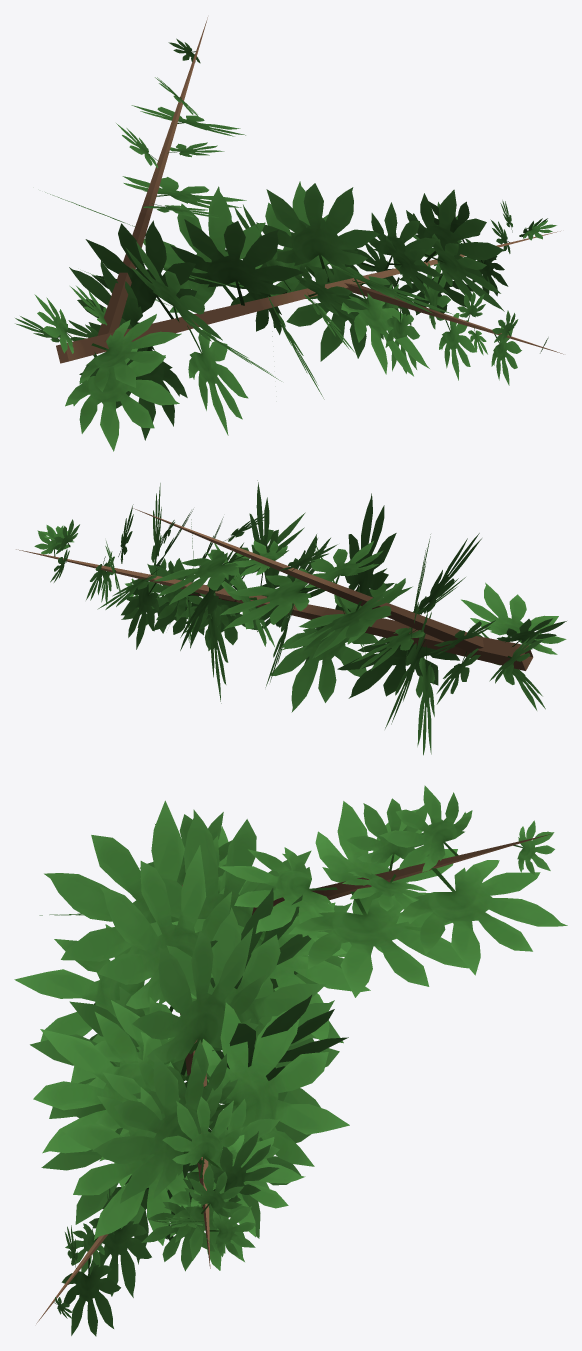
File: Branch_003.fbx
3 renders of one model, top to bottom at view 1: azimuth 30°, elevation 25°; view 2: azimuth 150°, elevation 25°; view 3: azimuth 270°, elevation 25°, orthographic. The views are drawn at different scales.
Visible parts, largest first — view 1: Branch_003; view 2: Branch_003; view 3: Branch_003.
Part boxes in pixels (bbox=[...]): Branch_003: bbox=[15, 17, 563, 451]; Branch_003: bbox=[16, 480, 566, 755]; Branch_003: bbox=[14, 785, 567, 1336].
Bounding box in the file's own units: 6.8 × 3.54 × 4.18.
